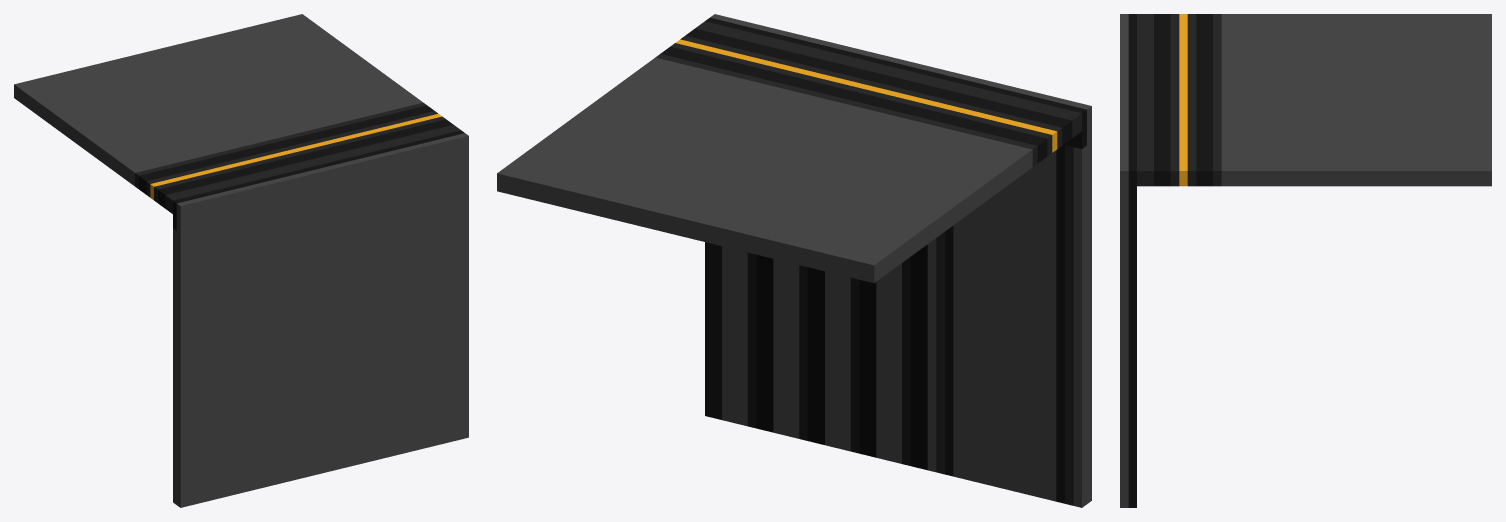
The model's file is mesh_hanger_wall_grid_straight_top.obj.
The picture shows the model from 3 angles, left to right: view 1: azimuth 30°, elevation 25°; view 2: azimuth 150°, elevation 25°; view 3: azimuth 270°, elevation 25°; orthographic projection. The views are drawn at different scales.
Size of the model in its own units: 4.4 by 4.4 by 4.4.
Materials: 1 (1 with a texture image).
